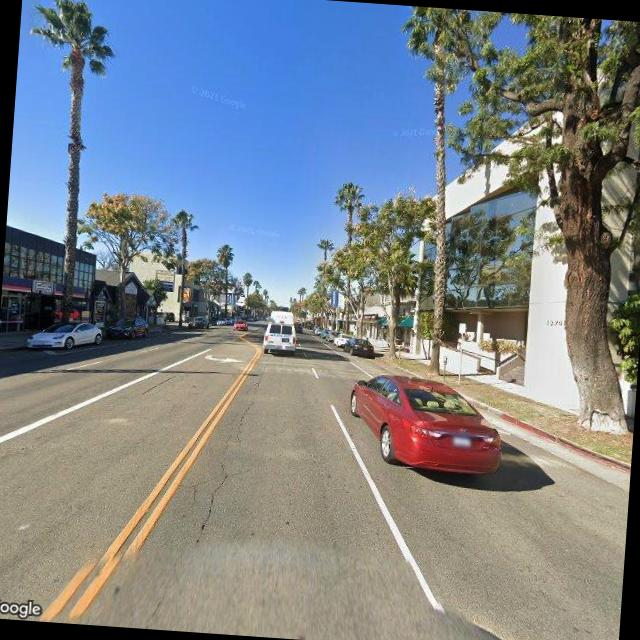crack: (196, 397, 252, 544), (139, 371, 177, 397)
